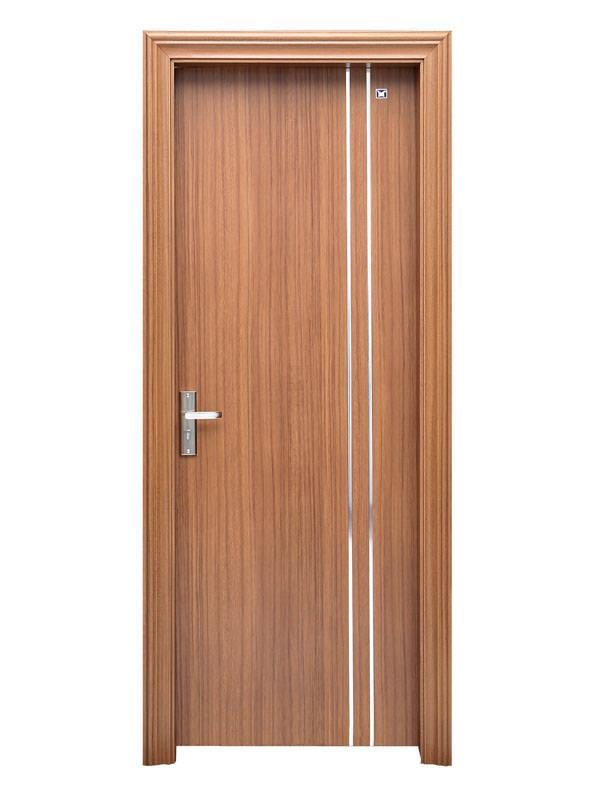door: (145, 52, 448, 756)
